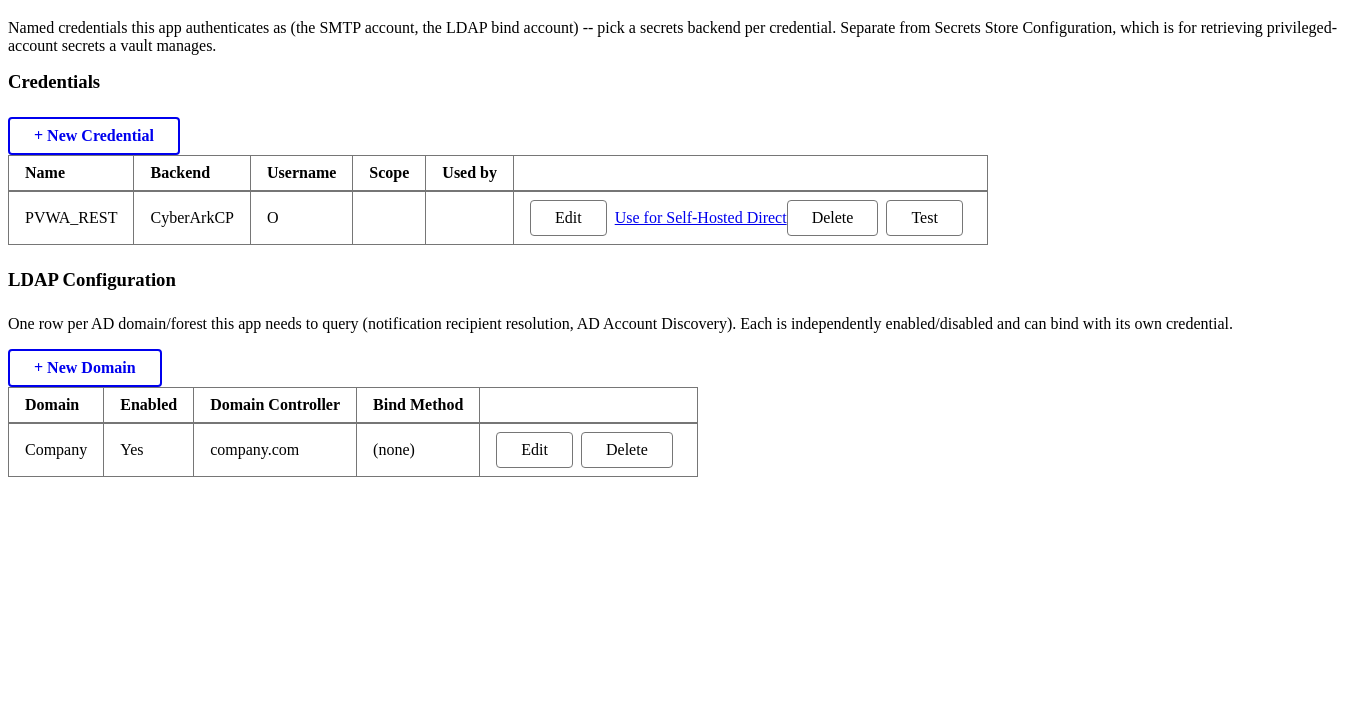
Test: Credentials.vue › shows the directory error when the bind fails
The image size is (1366, 728).
Click the button "Edit" in the row of "Yes". click: (535, 450)
box: [496,432,573,468]
(page scrolled)
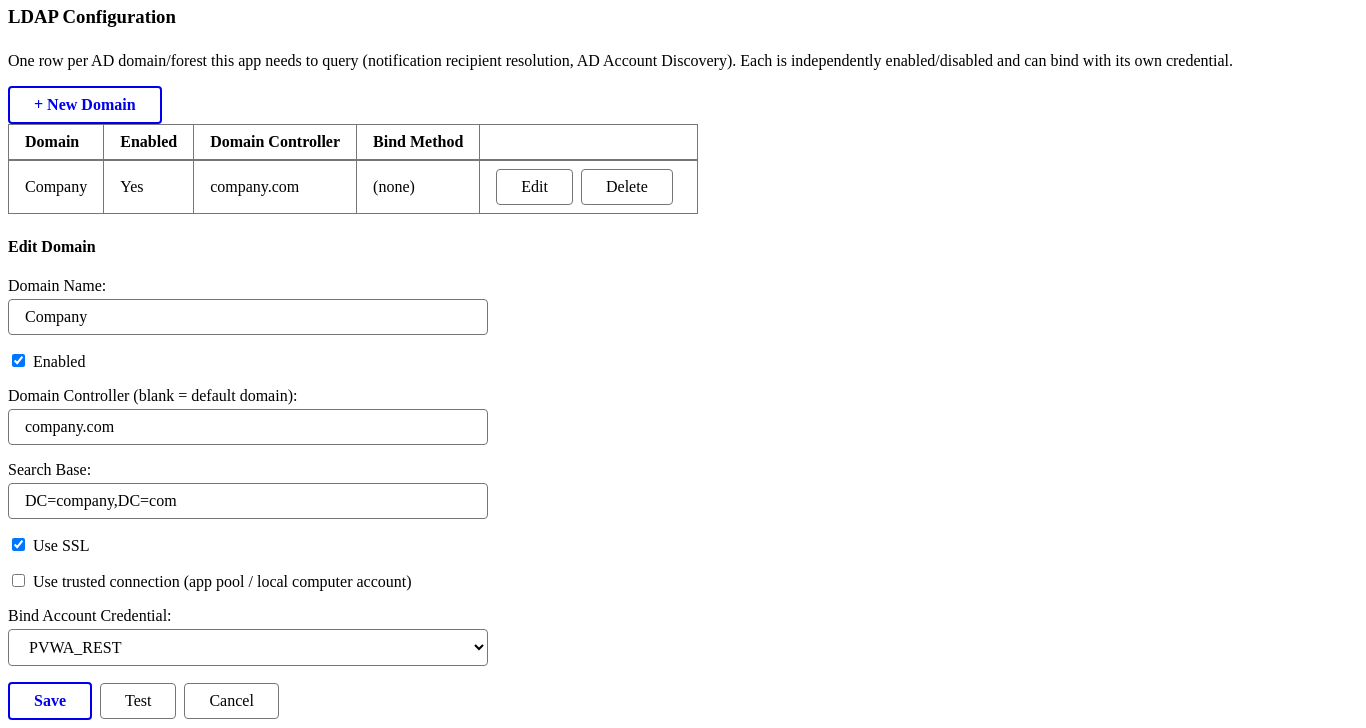
Click the button "Test". click: (138, 701)
box: [100,683,176,719]
(page scrolled)
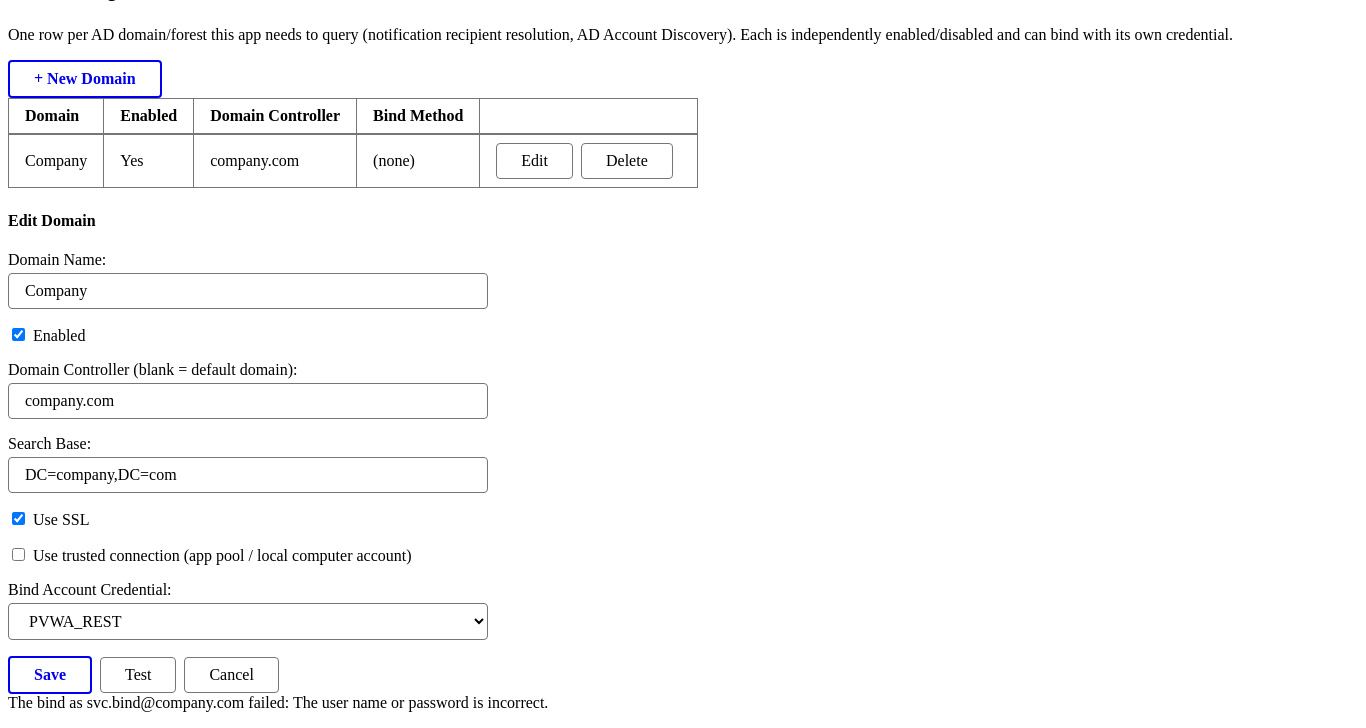
Now the message reads "The bind as svc.bind@company.com failed: The user name or password is incorrect.", box [8,694,548,711]
